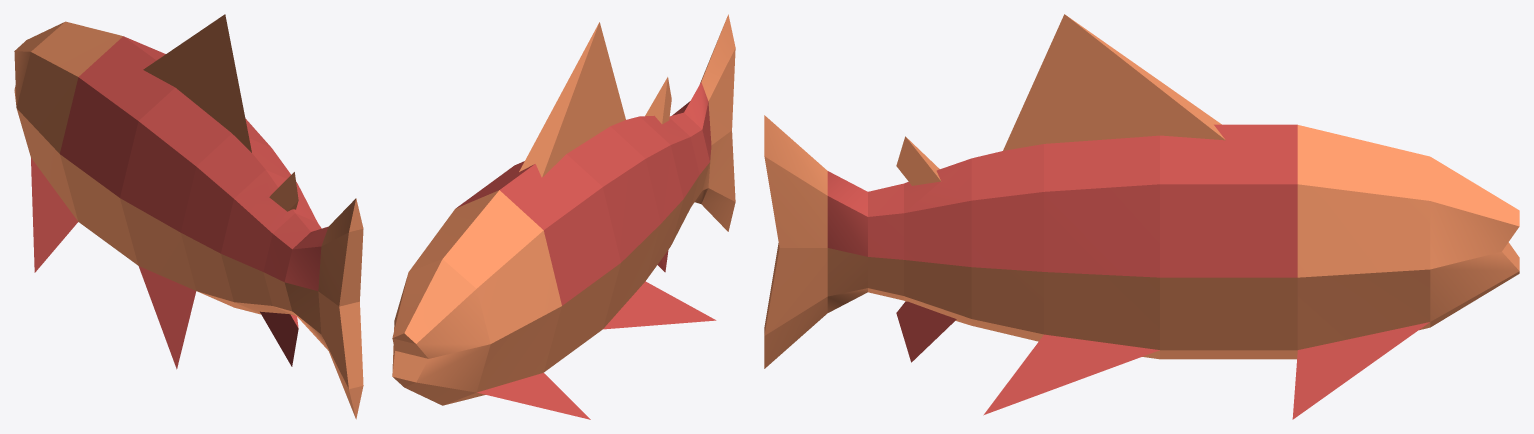
File: Fish.fbx
The picture shows the model from 3 angles, left to right: view 1: azimuth 30°, elevation 25°; view 2: azimuth 150°, elevation 25°; view 3: azimuth 270°, elevation 25°; orthographic projection. The views are drawn at different scales.
Parts seen in each view (by area): view 1: fish; view 2: fish; view 3: fish.
Boxes of the visible parts, <box> form: fish: <box>14,14,363,419</box>; fish: <box>392,14,735,419</box>; fish: <box>764,14,1519,419</box>.
Bounding box in the file's own units: 1.98 × 3.22 × 6.21.
